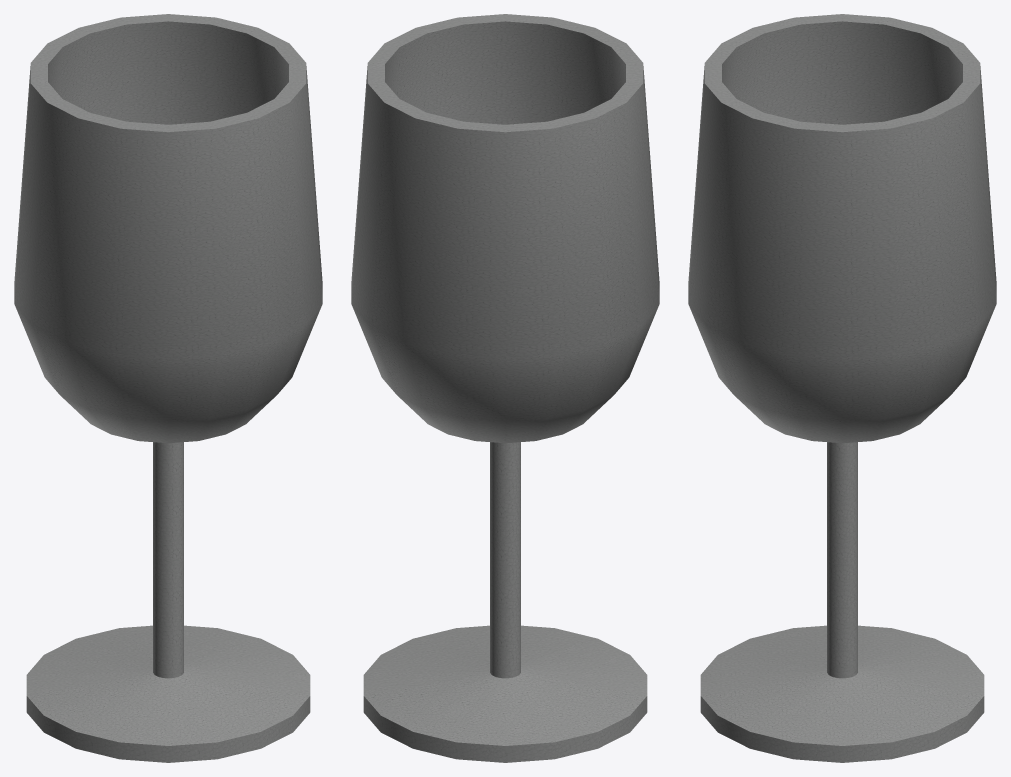
The model's file is wine_glass_empty.DAE.
3 views of the same model, side by side, from view 1: azimuth 30°, elevation 25°; view 2: azimuth 150°, elevation 25°; view 3: azimuth 270°, elevation 25° (orthographic).
Visible parts, largest first — view 1: Cylinder012; view 2: Cylinder012; view 3: Cylinder012.
Part boxes in pixels (x1,y1,x2,y2): Cylinder012: (14, 14, 322, 762); Cylinder012: (351, 14, 659, 762); Cylinder012: (688, 14, 996, 762).
Bounding box in the file's own units: 0.1108 × 0.2458 × 0.1091.
